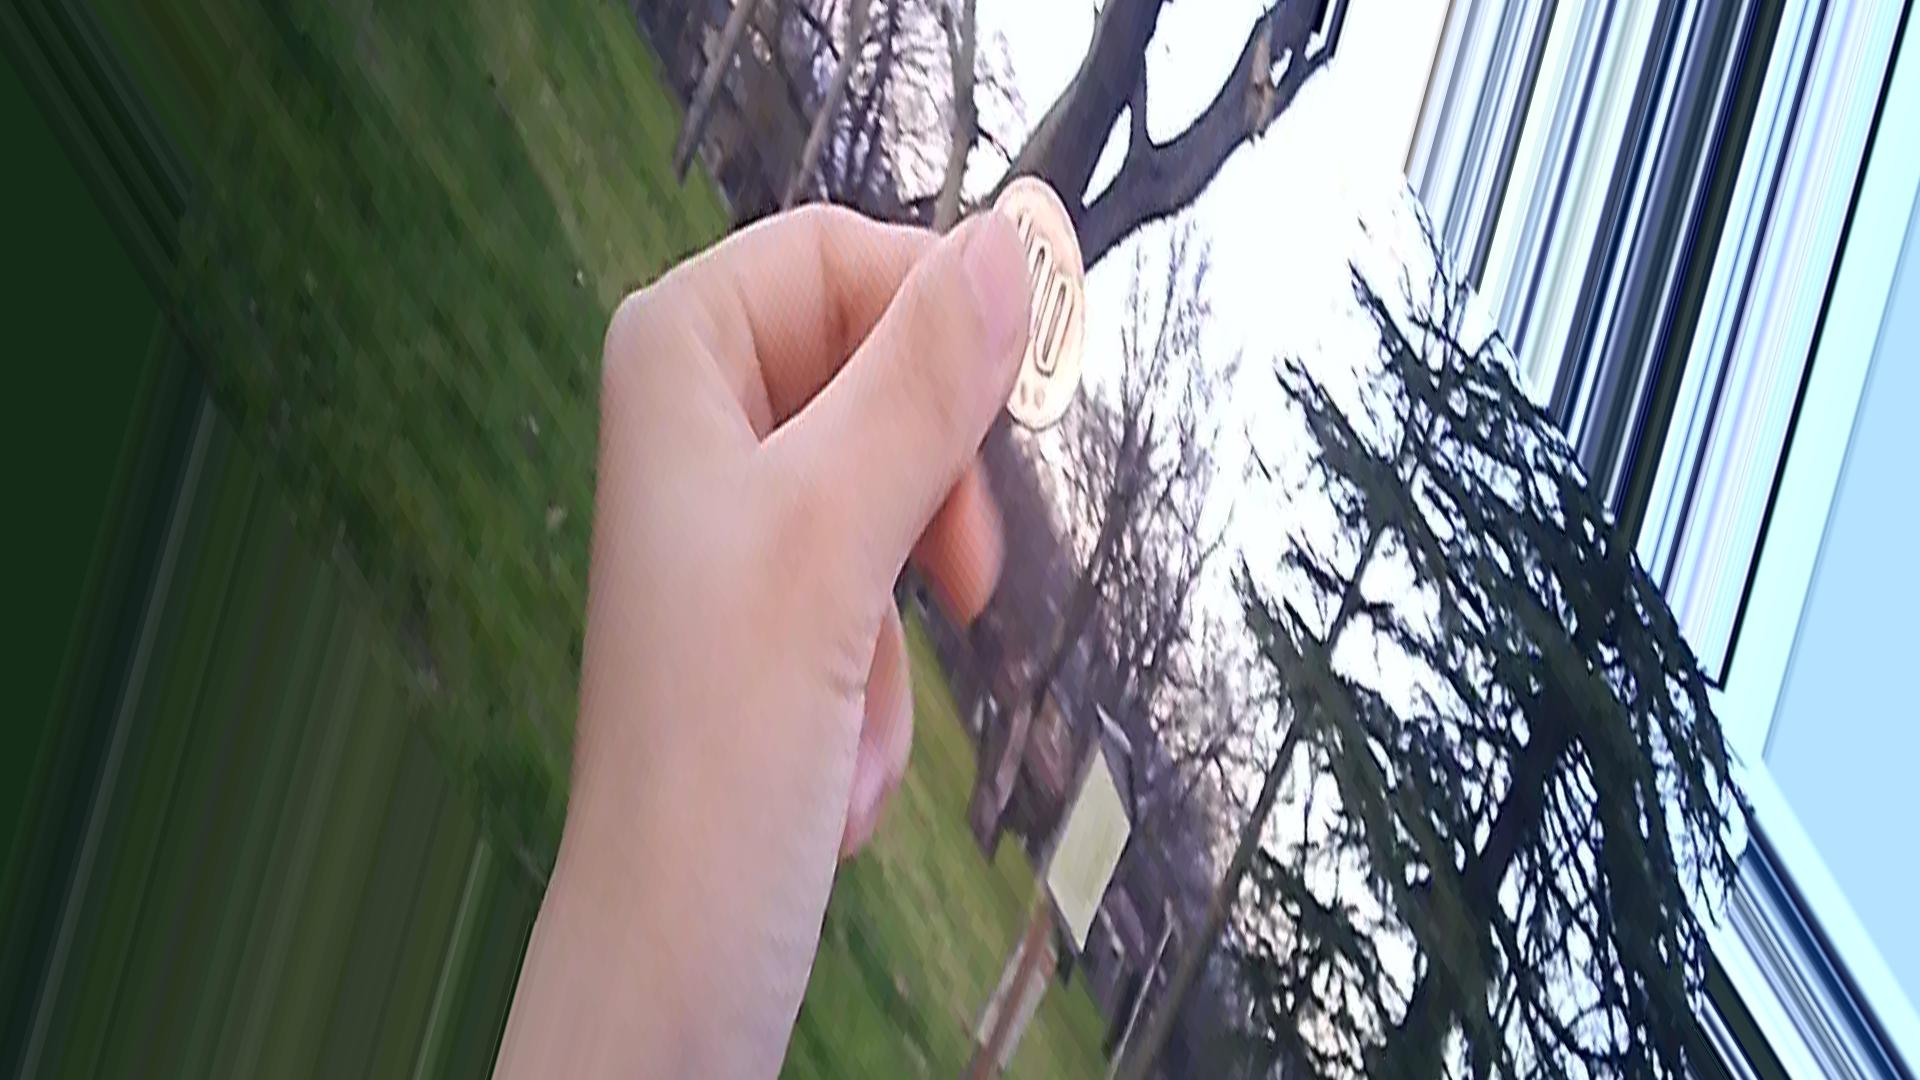100 Yen: (969, 171, 1092, 433)
